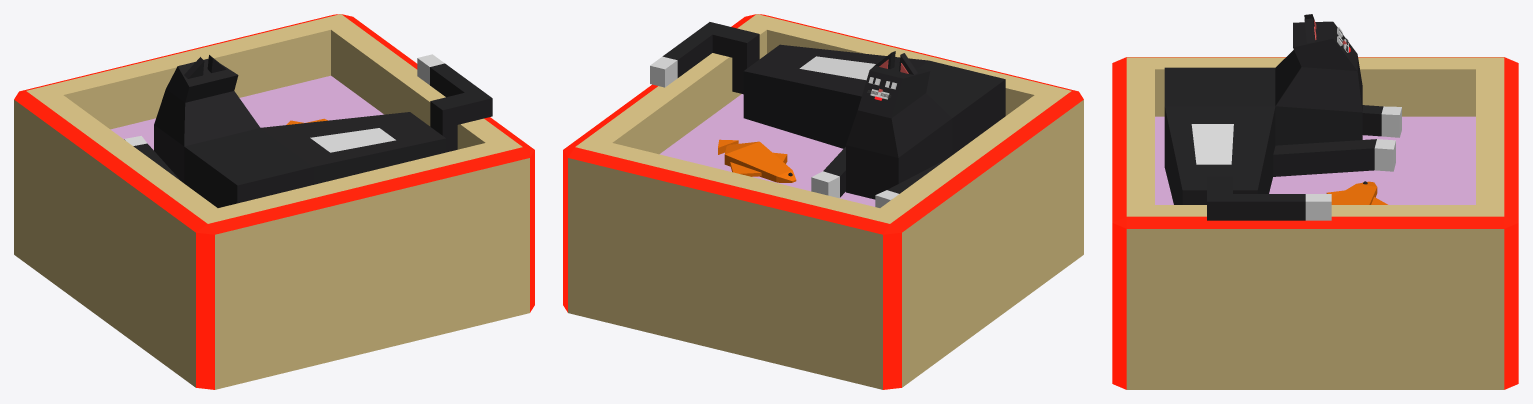
Rendered from OF[obs]_CatBox.fbx.
3 views of the same model, side by side, from view 1: azimuth 30°, elevation 25°; view 2: azimuth 150°, elevation 25°; view 3: azimuth 270°, elevation 25° (orthographic). The views are drawn at different scales.
Parts seen in each view (by area): view 1: gato; view 2: gato; view 3: gato.
Part boxes in pixels (<box>): gato: <box>14,14,534,389</box>; gato: <box>563,14,1083,389</box>; gato: <box>1112,14,1518,389</box>.
Size of the model in its own units: 97.79 by 66.86 by 97.79.
